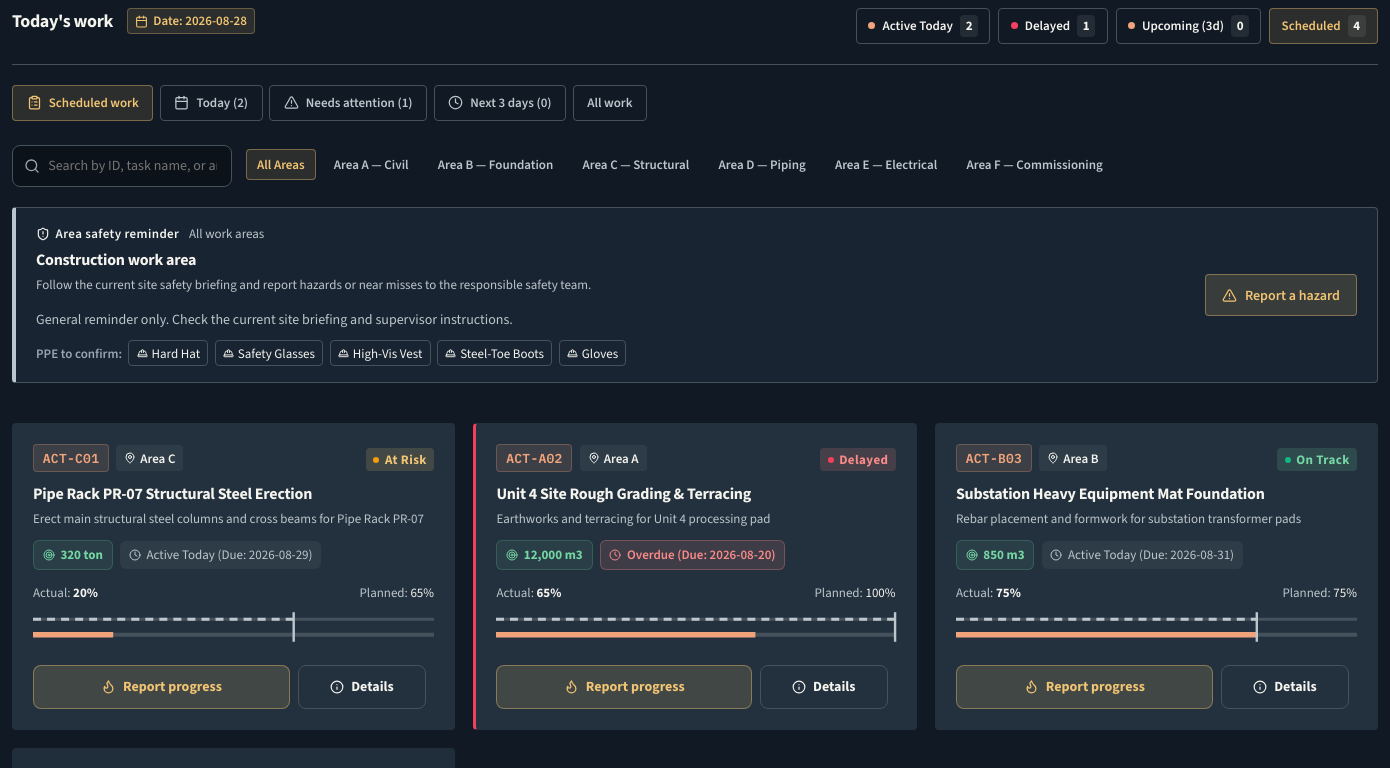
Test: TodayWorkView Component (Pass 31) › 7. Scope filtering (Active Today, Needs Attention) requests correct scope
The width and height of the screenshot is (1390, 768).
Expected: the text "ACT-C01" is shown, 33,444 -> 109,472
# Click "Active Today" tab
Click the tab "Today (2)" at x=211, y=103, box 160,85 -> 263,121
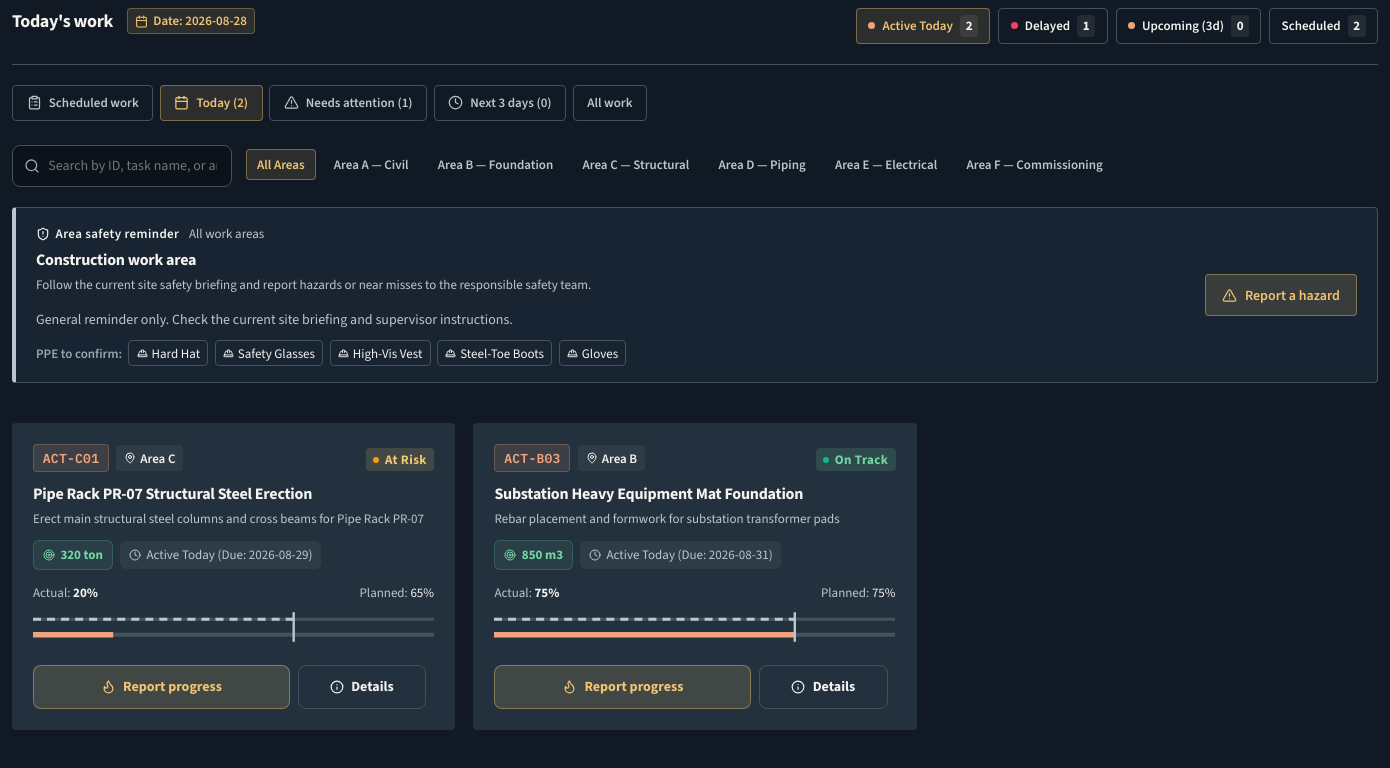
Expected: the text "ACT-C01" is shown, 33,444 -> 109,472
Now the text "ACT-A02" is gone
